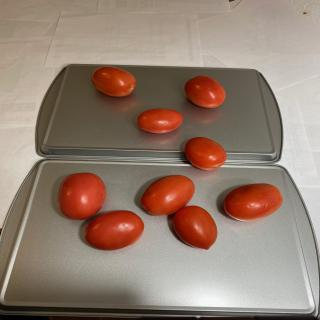Tomato: (84, 210, 144, 251), (57, 172, 107, 220), (224, 183, 284, 222), (141, 174, 195, 216), (172, 205, 218, 250), (91, 66, 137, 97), (184, 137, 227, 170), (184, 75, 226, 108), (137, 108, 184, 134)
